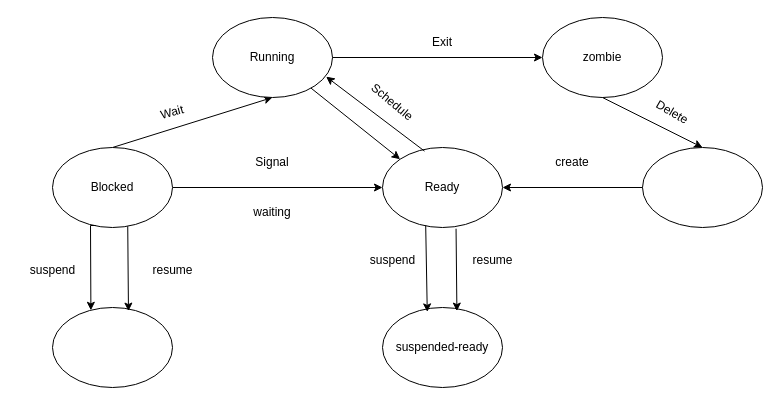
This 780x405 diagram has some shape labels left out. The shapes that lost their labels are listed below. From the top down, each one's centre as x and y in pixels, then its label:
At pixel 702 187: "non-exist".
At pixel 112 347: "suspended-blocked".
